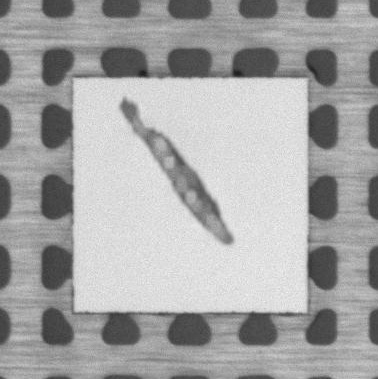DIE_INK: (121, 98, 235, 245)
